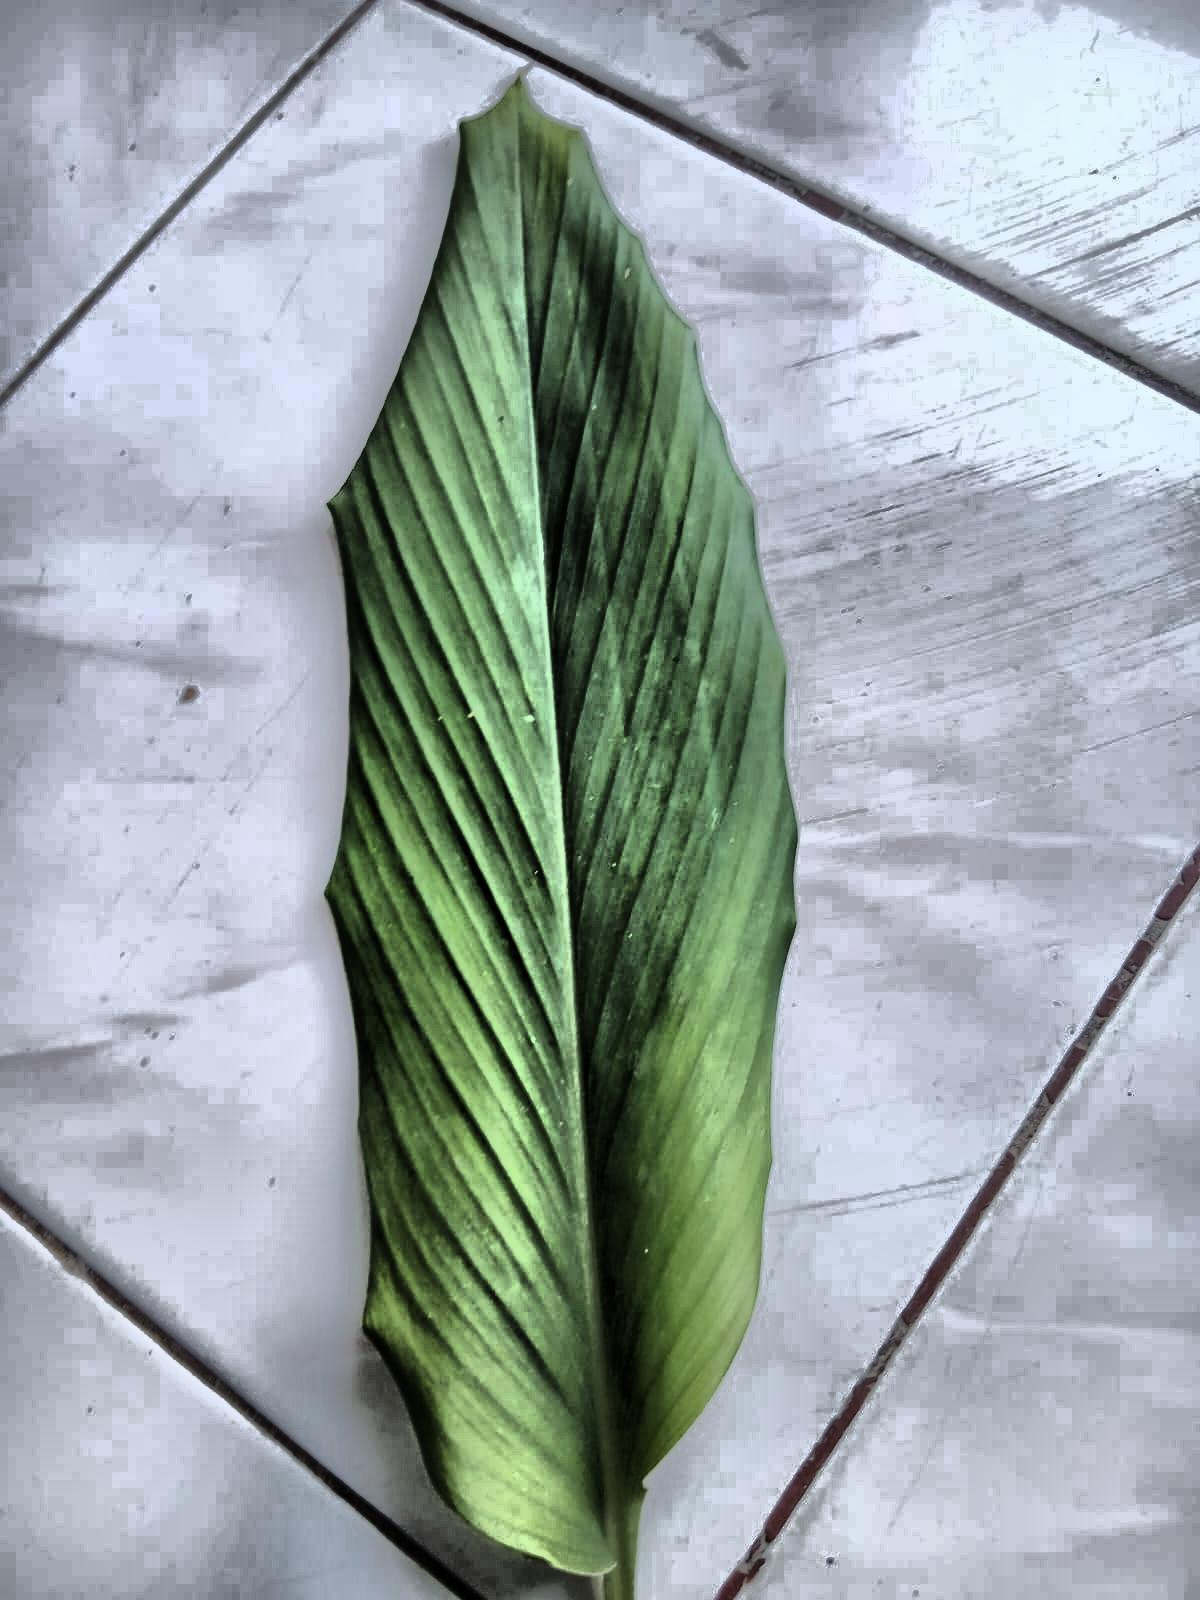daun kunyit: (326, 81, 795, 1599)
